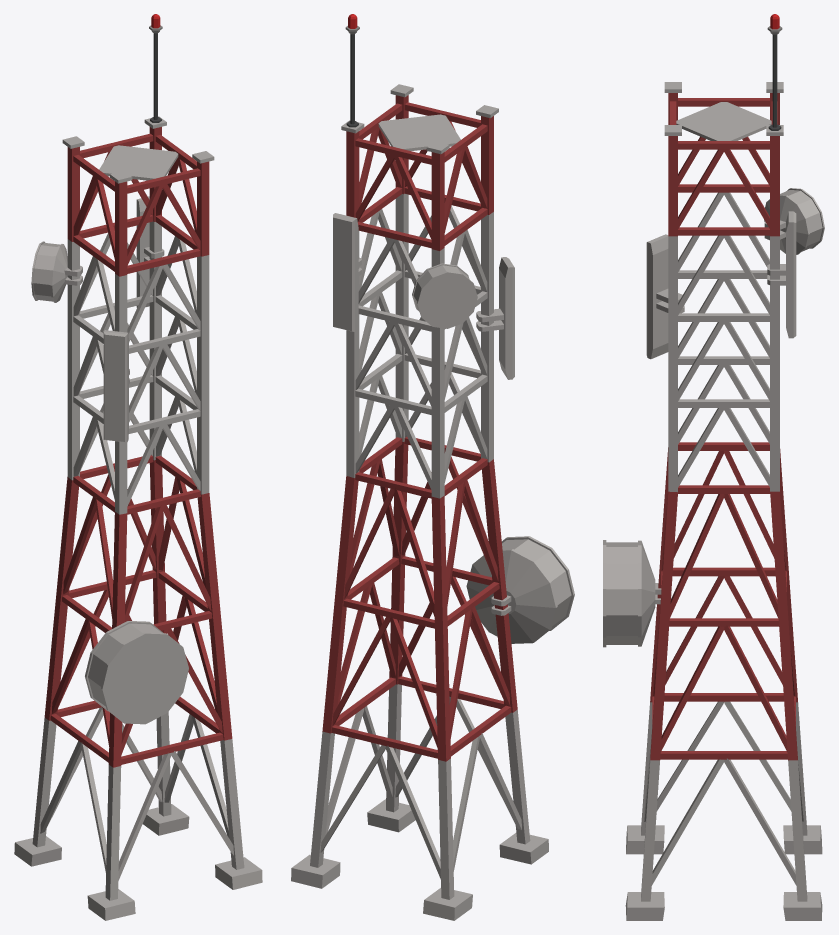
The model's file is SM_Props_Desert_RadioTower_1.fbx.
3 renders of one model, left to right at view 1: azimuth 30°, elevation 25°; view 2: azimuth 150°, elevation 25°; view 3: azimuth 270°, elevation 25°, orthographic. The views are drawn at different scales.
Visible parts, largest first — view 1: SM_Props_Desert_RadioTower; view 2: SM_Props_Desert_RadioTower; view 3: SM_Props_Desert_RadioTower.
Boxes of the visible parts, x1,y1,x2,y2 form: SM_Props_Desert_RadioTower: (14,14,262,920); SM_Props_Desert_RadioTower: (291,14,574,920); SM_Props_Desert_RadioTower: (603,14,824,920).
Size of the model in its own units: 521 by 2405 by 545.
